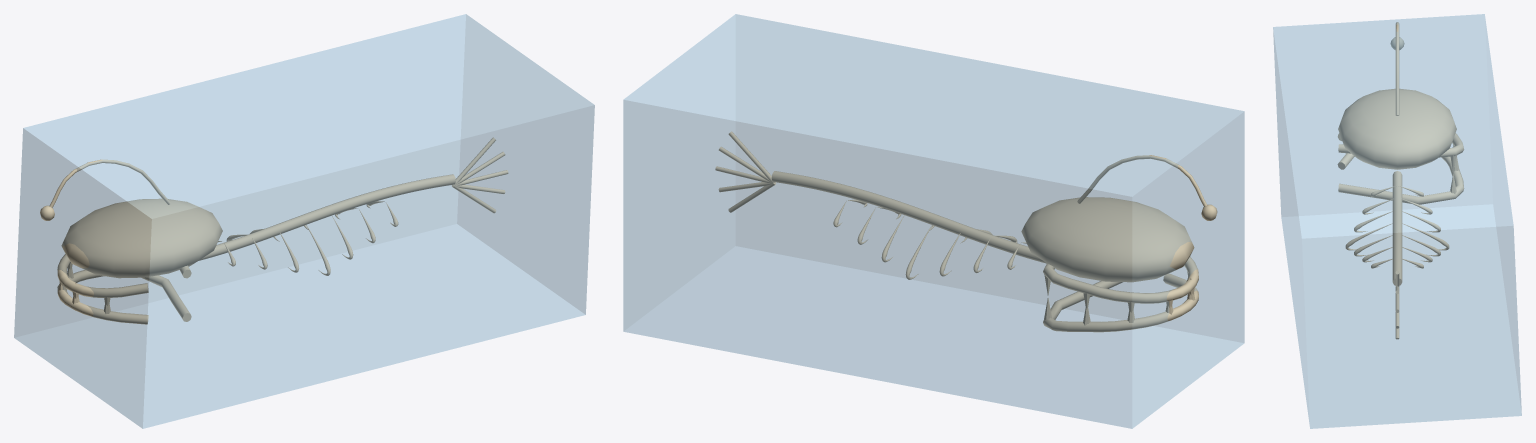
File: eisblock.obj
3 views of the same model, side by side, from view 1: azimuth 30°, elevation 25°; view 2: azimuth 150°, elevation 25°; view 3: azimuth 270°, elevation 25° (orthographic). The views are drawn at different scales.
Visible parts, largest first — view 1: eisblock; view 2: eisblock; view 3: eisblock.
Boxes of the visible parts, <box> form: eisblock: <box>14,14,594,428</box>; eisblock: <box>623,14,1244,428</box>; eisblock: <box>1273,14,1521,428</box>.
Bounding box in the file's own units: 37.08 × 16.26 × 17.58.
